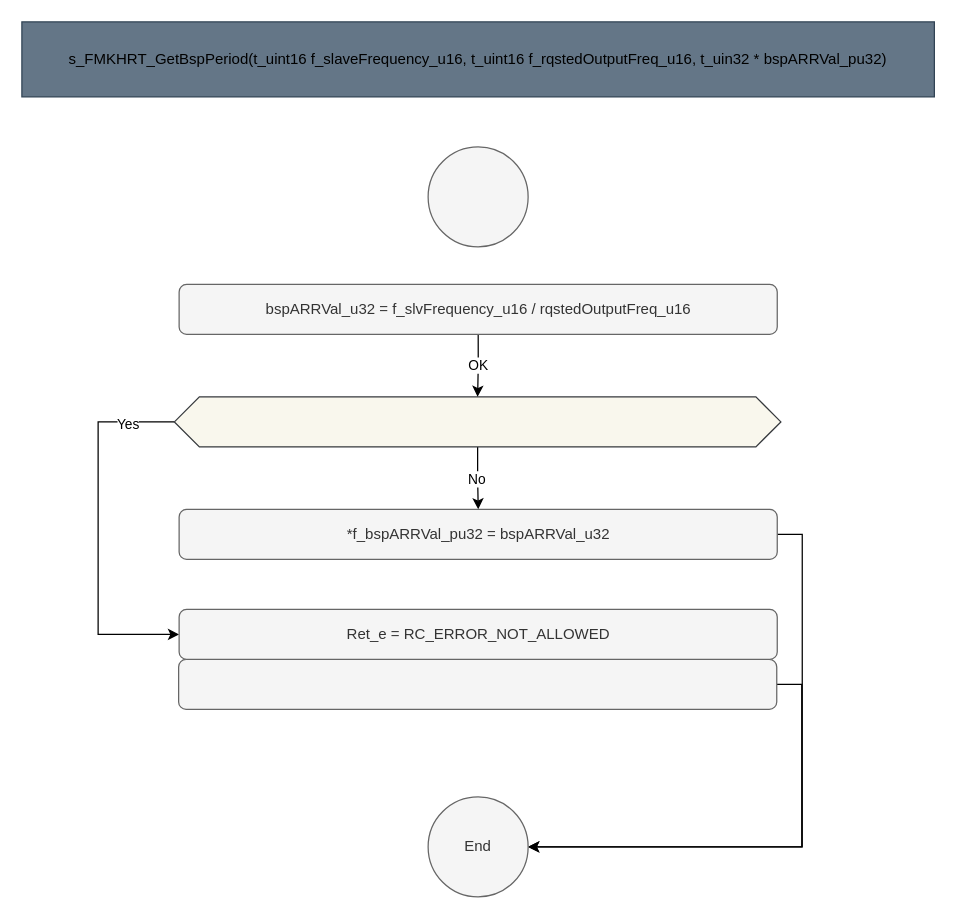
Some shapes in this 956 by 919 pixel diagram are drawn without their labels. The box of each missing label's shape, as (x1, y1, x2, y2) in pixels:
*f_bspARRVal_pu32 = 0: (177, 658, 777, 709)
bspARRVal_u32 > MAX16BIT ??: (173, 396, 781, 447)
Start: (427, 146, 528, 247)
